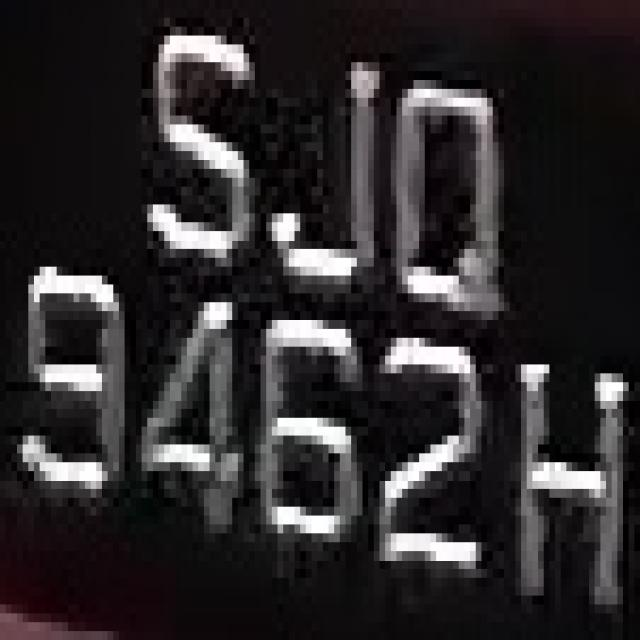2: (362, 320, 476, 596)
4: (142, 249, 266, 551)
6: (249, 302, 380, 578)
9: (6, 231, 119, 542)
H: (487, 329, 640, 613)
J: (277, 9, 391, 311)
Q: (402, 35, 499, 338)
S: (147, 0, 260, 293)
